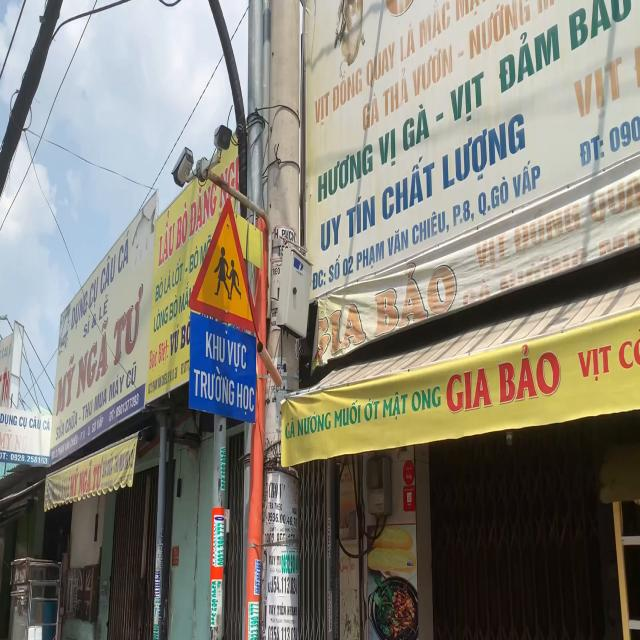Nguy hiem: (188, 194, 262, 337)
